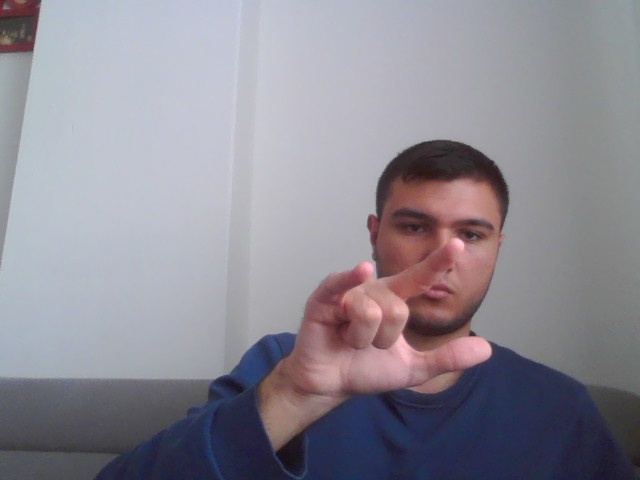ı love you: (291, 237, 491, 399)
